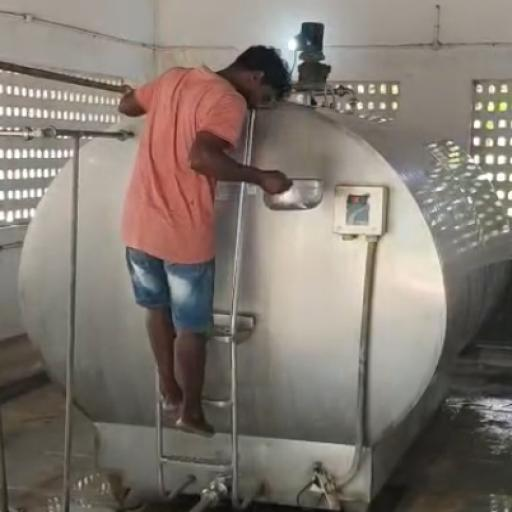silo: (15, 90, 511, 506)
vessel: (262, 177, 325, 212)
